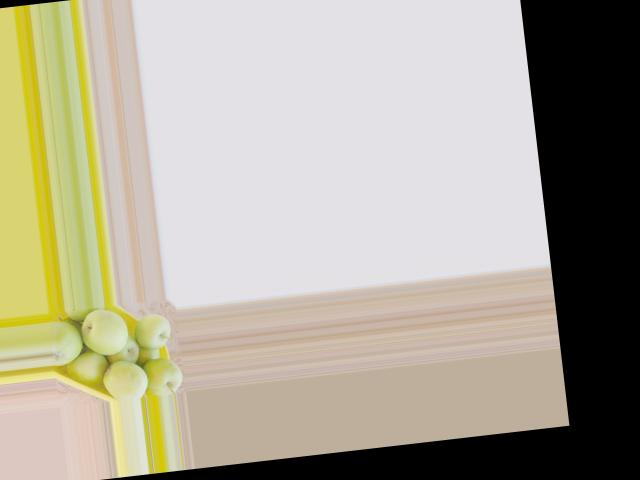apple: (63, 348, 108, 393)
